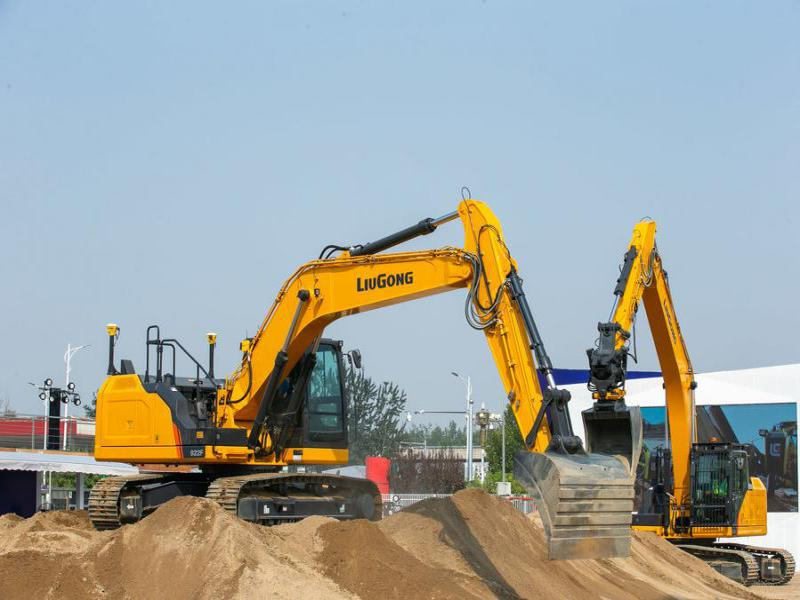shovel: (78, 183, 628, 589)
